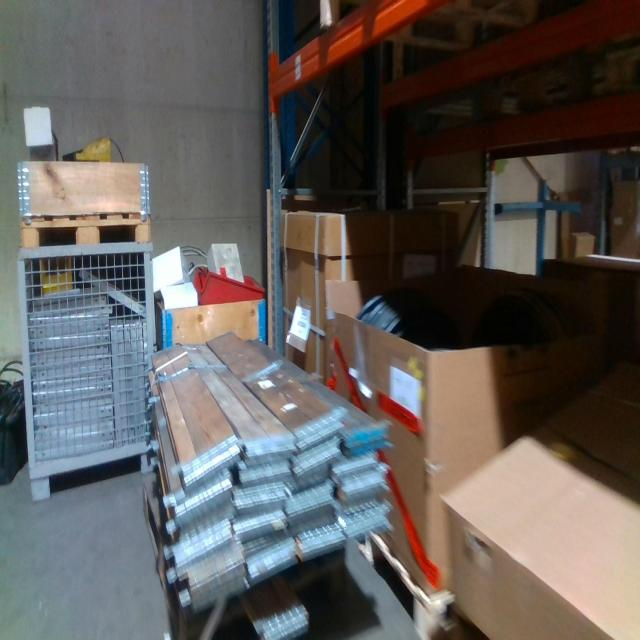pallet: (357, 527, 459, 639), (18, 211, 151, 254)
stillage: (18, 245, 154, 503)
